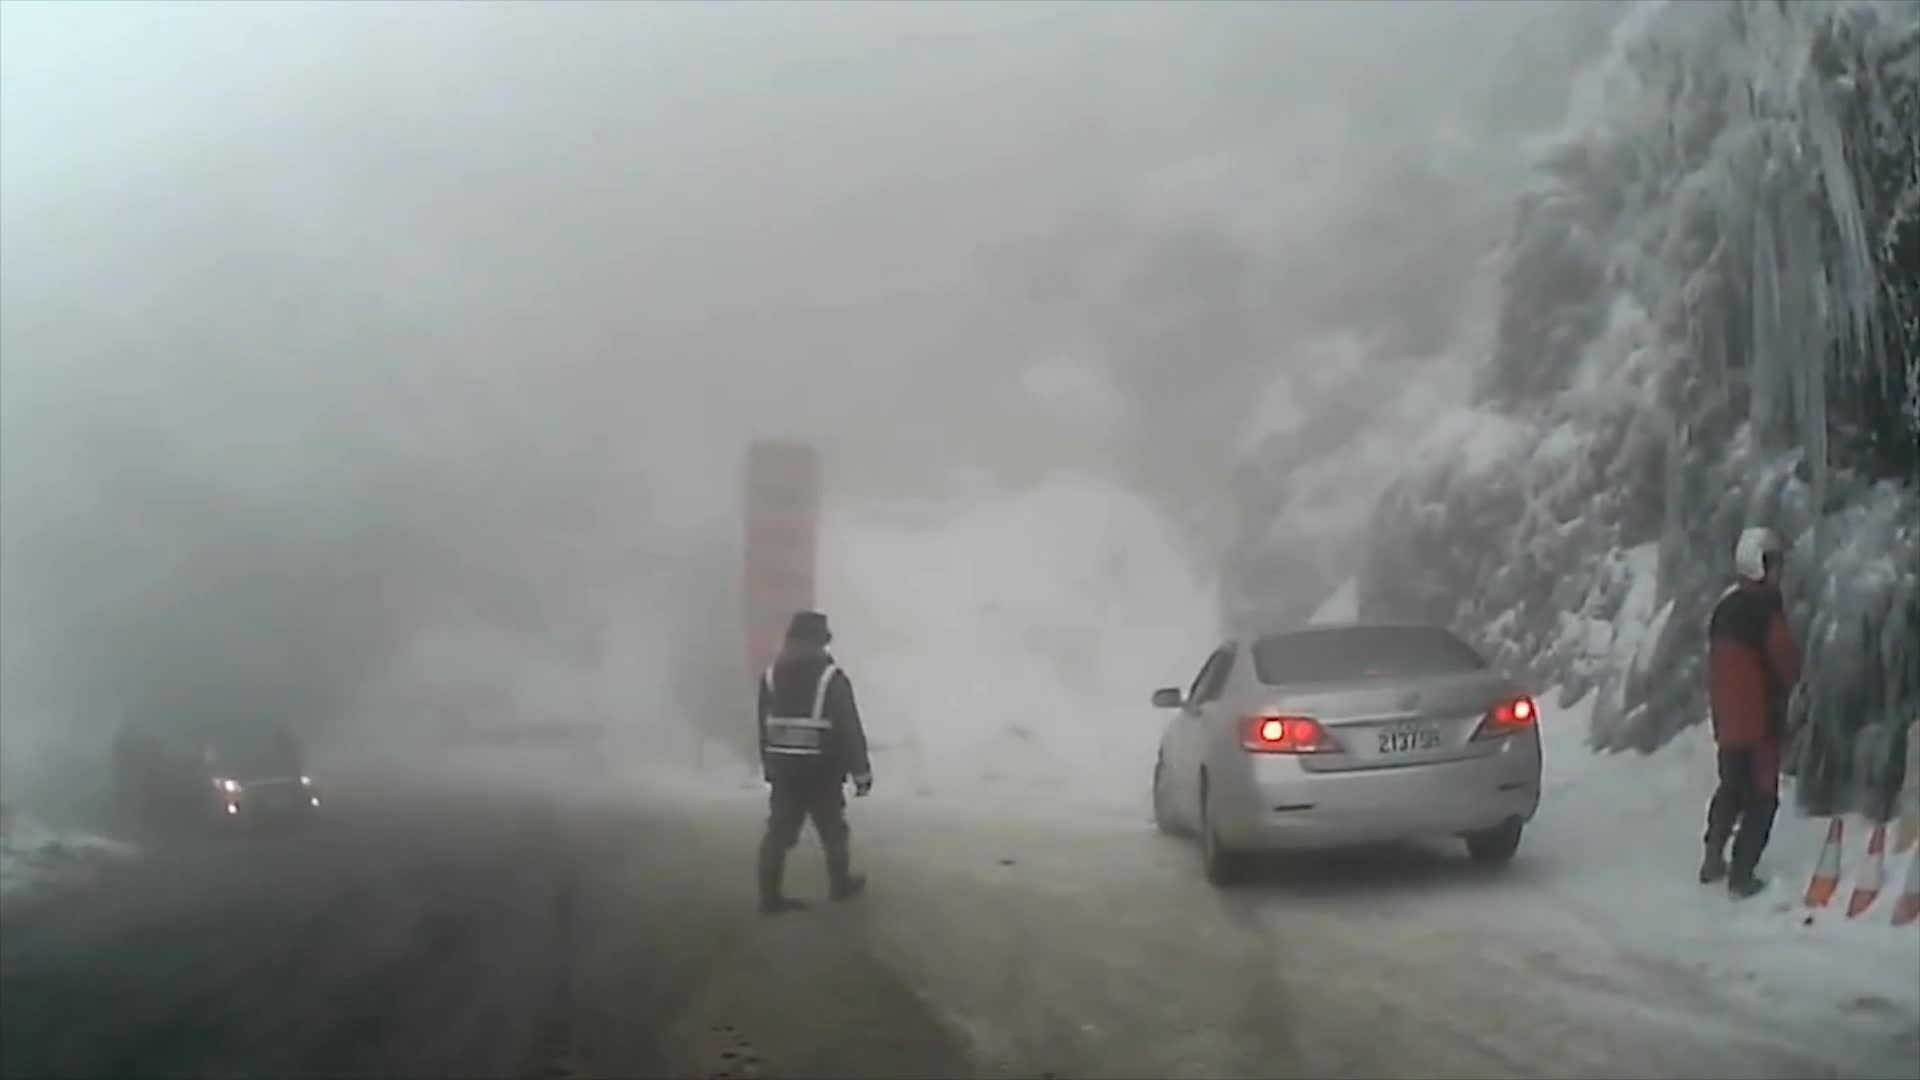pedestrian: (1695, 527, 1816, 901), (756, 615, 875, 918)
vehicle: (1147, 619, 1543, 888)
